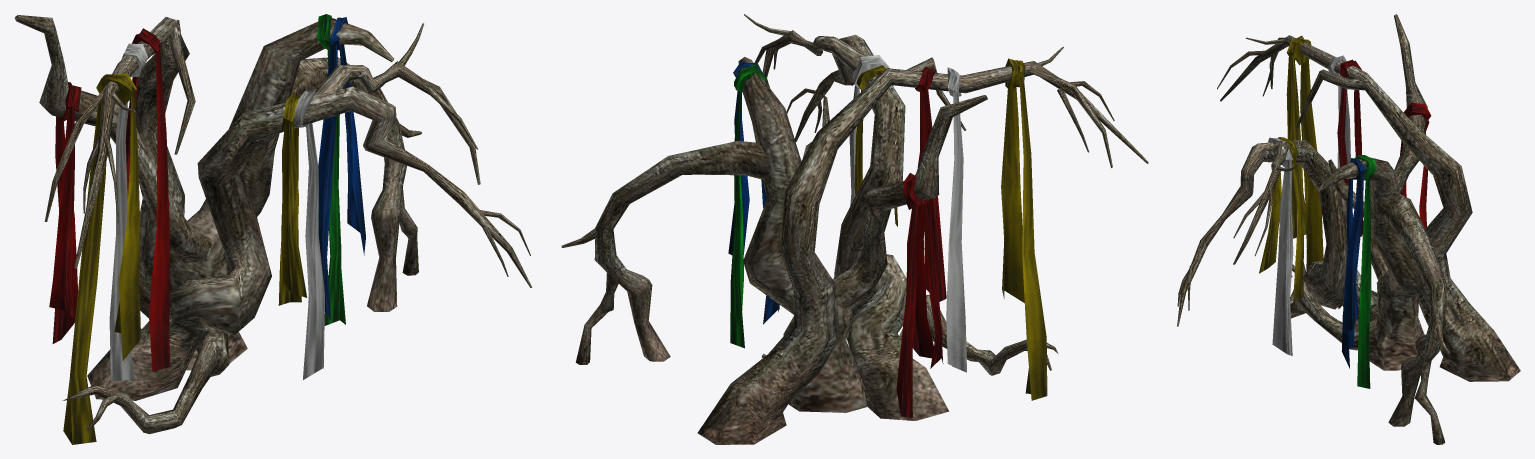
The model's file is treestatue_06.fbx.
The picture shows the model from 3 angles, left to right: view 1: azimuth 30°, elevation 25°; view 2: azimuth 150°, elevation 25°; view 3: azimuth 270°, elevation 25°; orthographic projection. The views are drawn at different scales.
Visible parts, largest first — view 1: deadwood_08; view 2: deadwood_08; view 3: deadwood_08.
Boxes of the visible parts, x1,y1,x2,y2 form: deadwood_08: [14, 14, 532, 444]; deadwood_08: [561, 14, 1148, 444]; deadwood_08: [1177, 14, 1520, 444].
Bounding box in the file's own units: 20.9 × 15.28 × 16.96.
